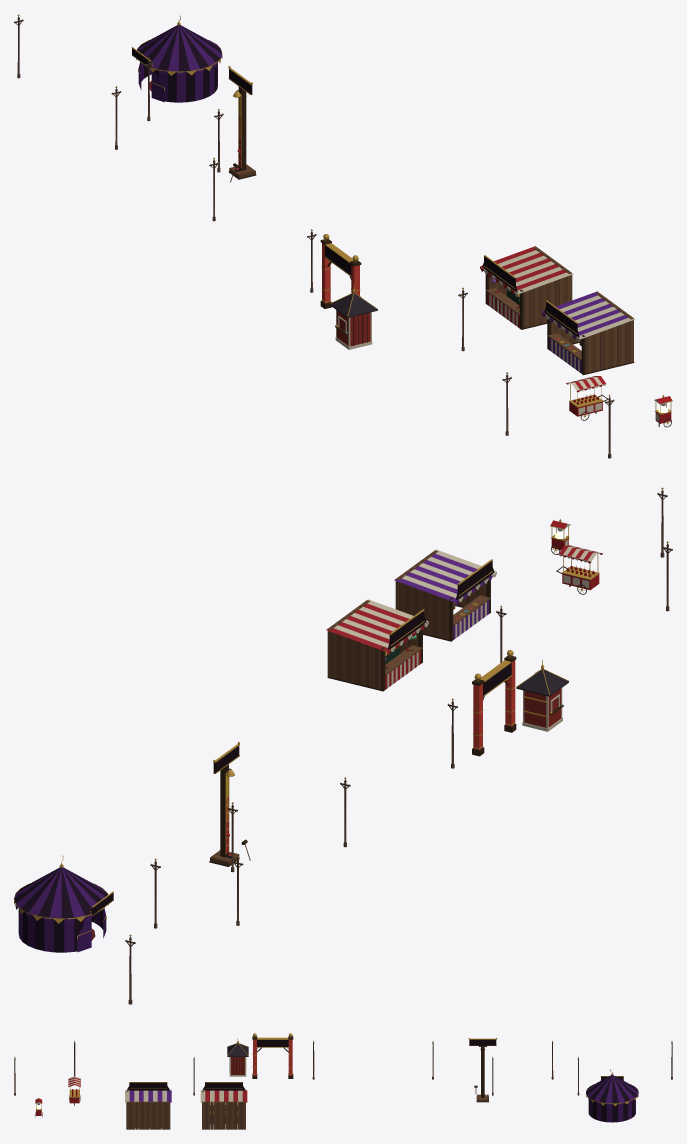
The model's file is hg-fair.glb.
3 views of the same model, one above another, from view 1: azimuth 30°, elevation 25°; view 2: azimuth 150°, elevation 25°; view 3: azimuth 270°, elevation 25° (orthographic). The views are drawn at different scales.
Visible parts, largest first — view 1: hg-fair; view 2: hg-fair; view 3: hg-fair.
Part boxes in pixels (<box>): hg-fair: <box>14,14,672,458</box>; hg-fair: <box>14,487,672,1004</box>; hg-fair: <box>14,1033,672,1129</box>.
Size of the model in its own units: 14.52 by 6.83 by 66.19.
